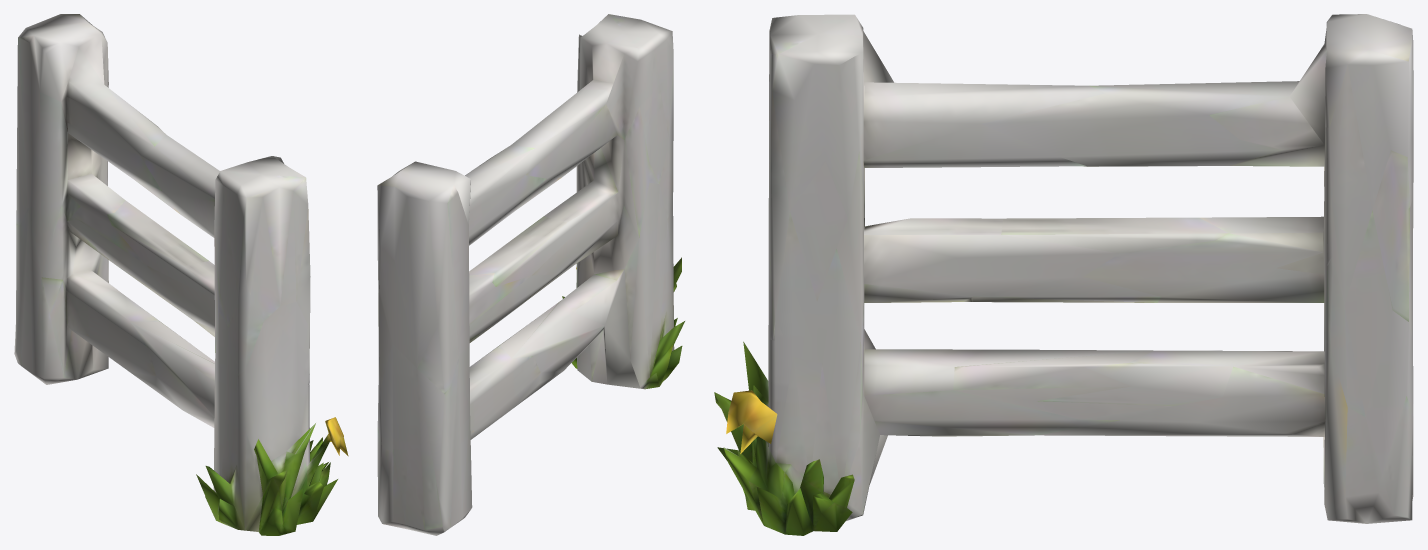
Rendered from fence.glb.
3 renders of one model, left to right at view 1: azimuth 30°, elevation 25°; view 2: azimuth 150°, elevation 25°; view 3: azimuth 270°, elevation 25°, orthographic. The views are drawn at different scales.
Visible parts, largest first — view 1: tripo_node_0a4630e5-11e8-4ff8-bfa3-5811c9ef982d; view 2: tripo_node_0a4630e5-11e8-4ff8-bfa3-5811c9ef982d; view 3: tripo_node_0a4630e5-11e8-4ff8-bfa3-5811c9ef982d.
Part boxes in pixels (box(x1,y1,x2,y2)): tripo_node_0a4630e5-11e8-4ff8-bfa3-5811c9ef982d: box(14, 14, 348, 535); tripo_node_0a4630e5-11e8-4ff8-bfa3-5811c9ef982d: box(377, 14, 684, 535); tripo_node_0a4630e5-11e8-4ff8-bfa3-5811c9ef982d: box(714, 14, 1413, 535).
Size of the model in its own units: 0.2895 by 0.7436 by 1.
Materials: 1 (1 with a texture image).
